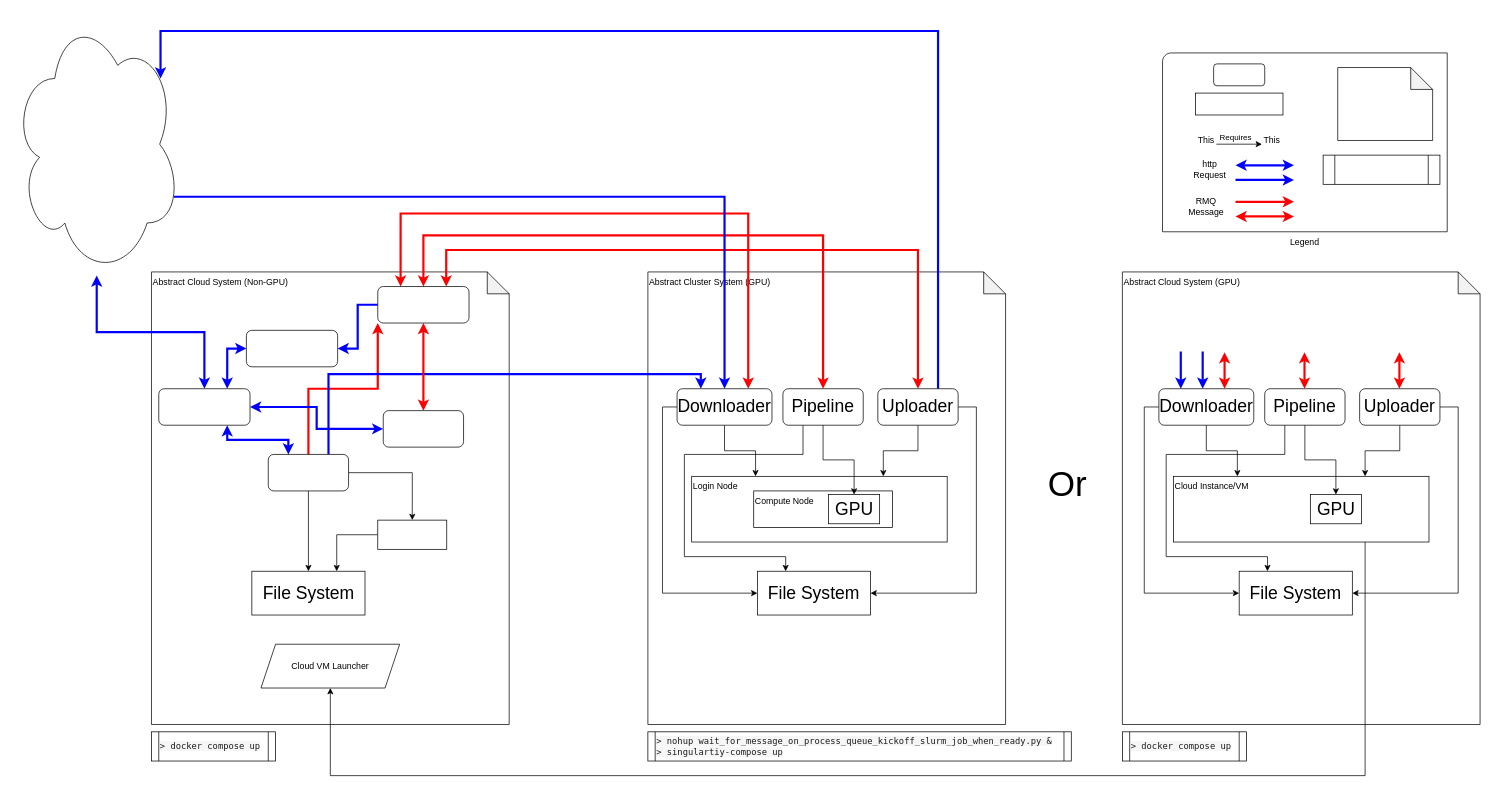
Some shapes in this 1493 by 794 pixel diagram are drawn without their labels. The centre of each missing label's shape, as x and y in pixels:
"Abstract System" belongs at [1385,104].
"Anything Cheep (e.g. VM)" belongs at [412,534].
"cdrhook" belongs at [308,472].
"Container" belongs at [1239,74].
"ELK" belongs at [423,428].
"Monitor" belongs at [292,348].
"One line command to start services on abstract system" belongs at [1381,169].
"physical system" belongs at [1239,103].
"RabbitMQ" belongs at [423,304].
"The CDR" belongs at [96,144].
"traefik" belongs at [204,406].
